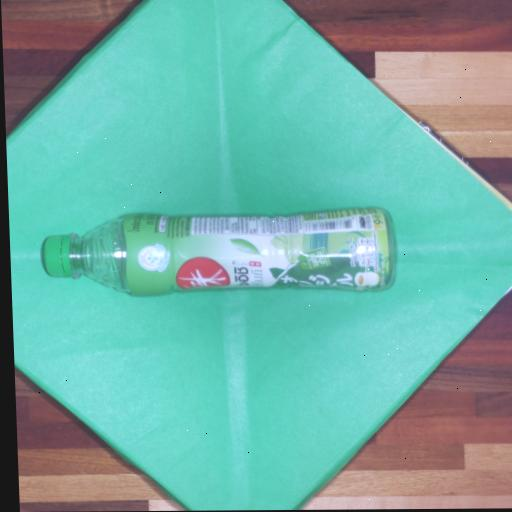bottle: (43, 208, 393, 295)
